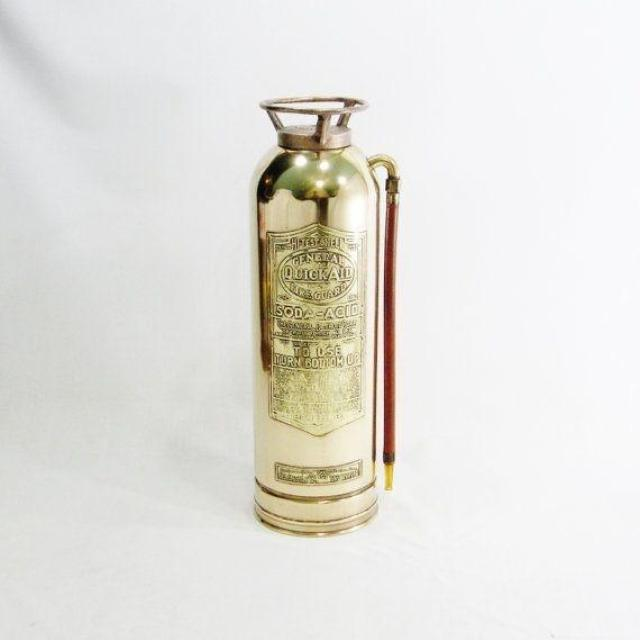fire_extinguisher: (240, 90, 400, 542)
